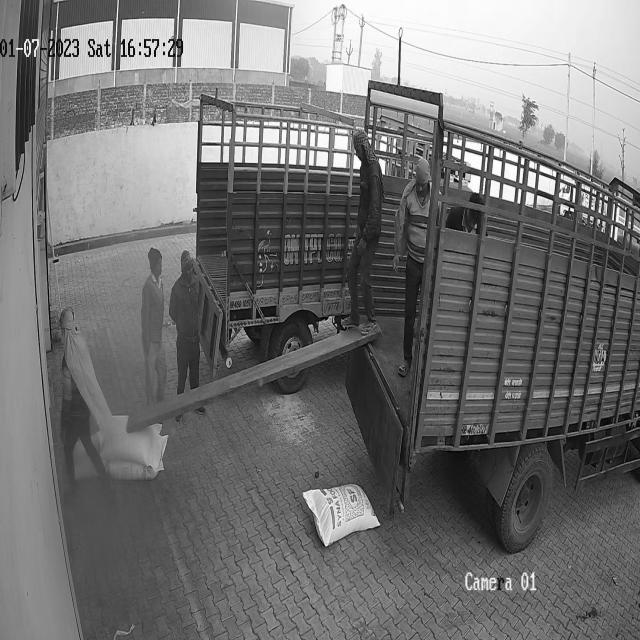sack: (303, 484, 380, 546), (100, 414, 162, 466), (106, 436, 168, 478)
